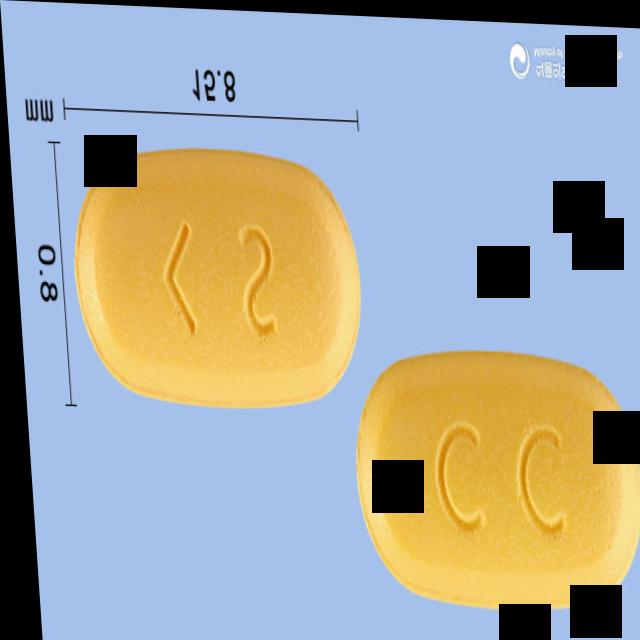Clribio: (344, 347, 640, 618), (64, 145, 365, 409)
